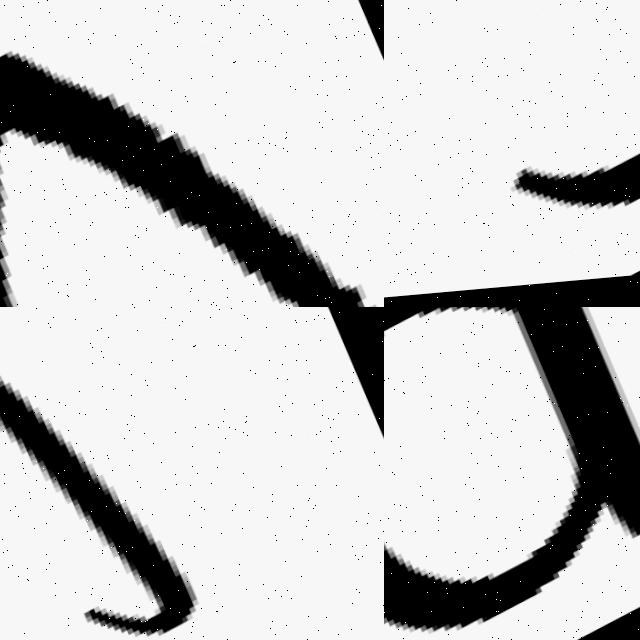2: (384, 0, 640, 305)
J: (0, 307, 311, 640)
Q: (384, 307, 640, 640)
V: (0, 0, 384, 307)
